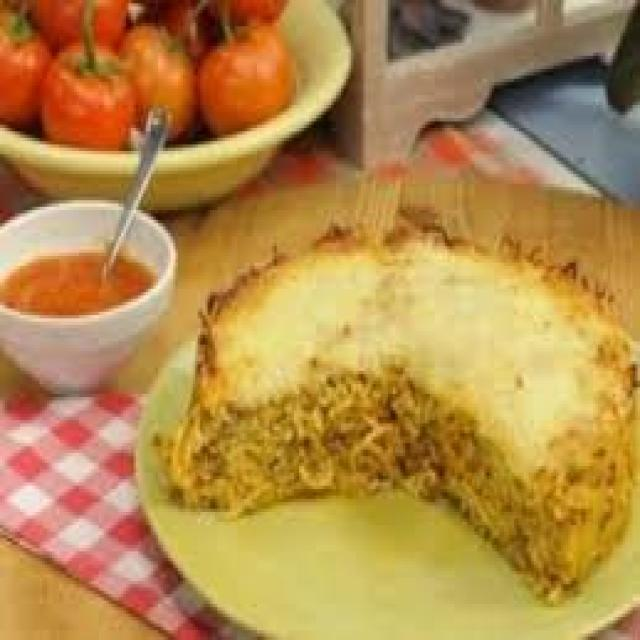Organik: (183, 200, 627, 607), (204, 29, 306, 111), (48, 38, 128, 140), (132, 22, 210, 115), (0, 2, 39, 137), (37, 0, 144, 38)
